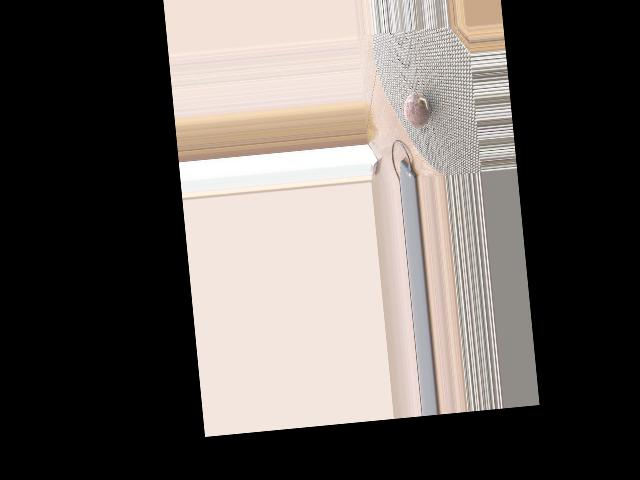beet: (402, 92, 431, 129)
